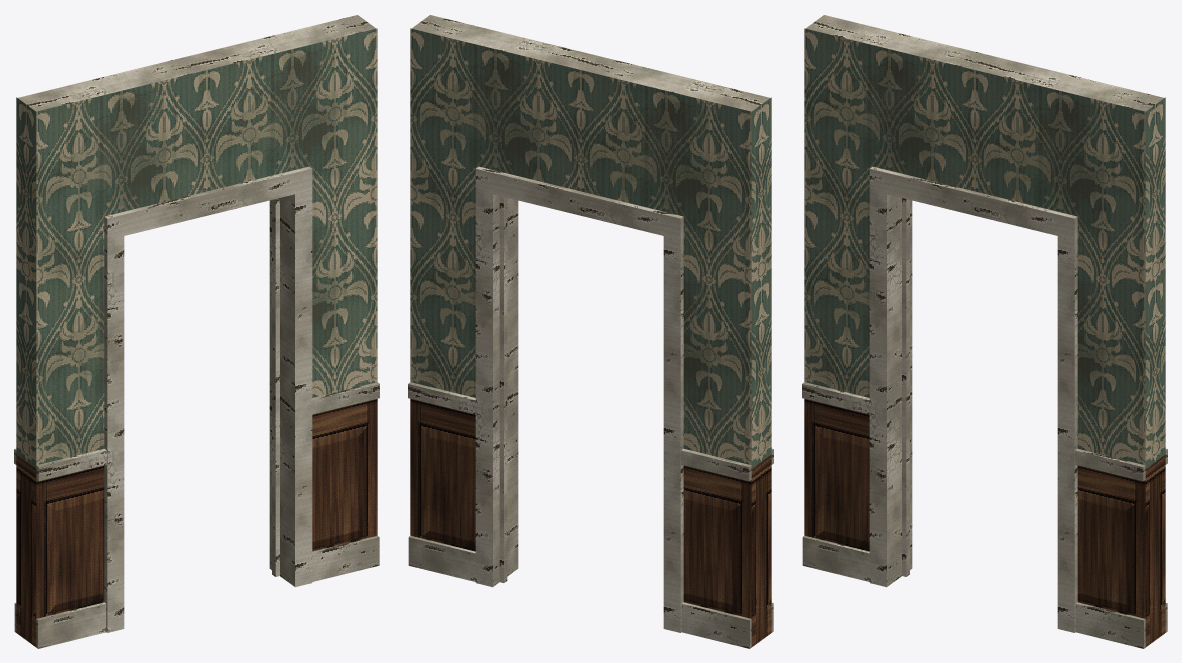
The model's file is house_wall_door.glb.
The picture shows the model from 3 angles, left to right: view 1: azimuth 30°, elevation 25°; view 2: azimuth 150°, elevation 25°; view 3: azimuth 330°, elevation 25°; orthographic projection.
Parts seen in each view (by area): view 1: house_wall_door; view 2: house_wall_door; view 3: house_wall_door.
Part boxes in pixels (x1,y1,x2,y2): house_wall_door: (14, 15, 379, 648); house_wall_door: (408, 15, 773, 648); house_wall_door: (802, 15, 1167, 648).
Size of the model in its own units: 2 by 3 by 0.26.
Materials: 3 (3 with a texture image).
